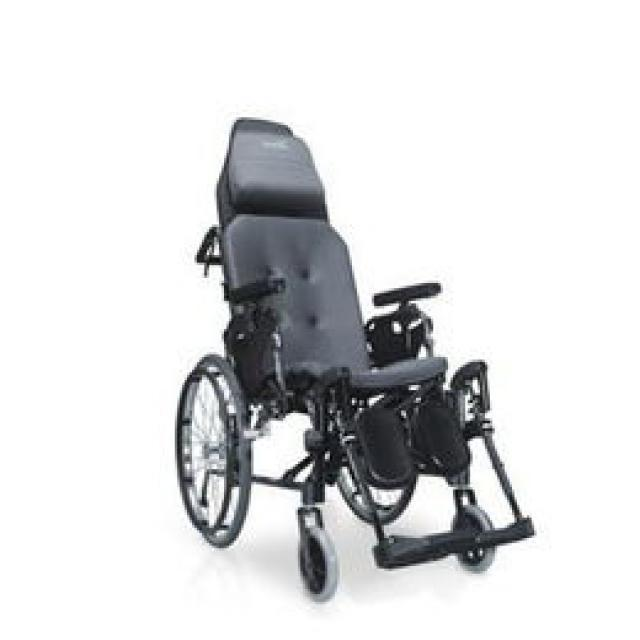wheelchairs: (171, 109, 527, 602)
